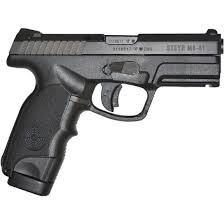gun: (8, 26, 223, 198)
